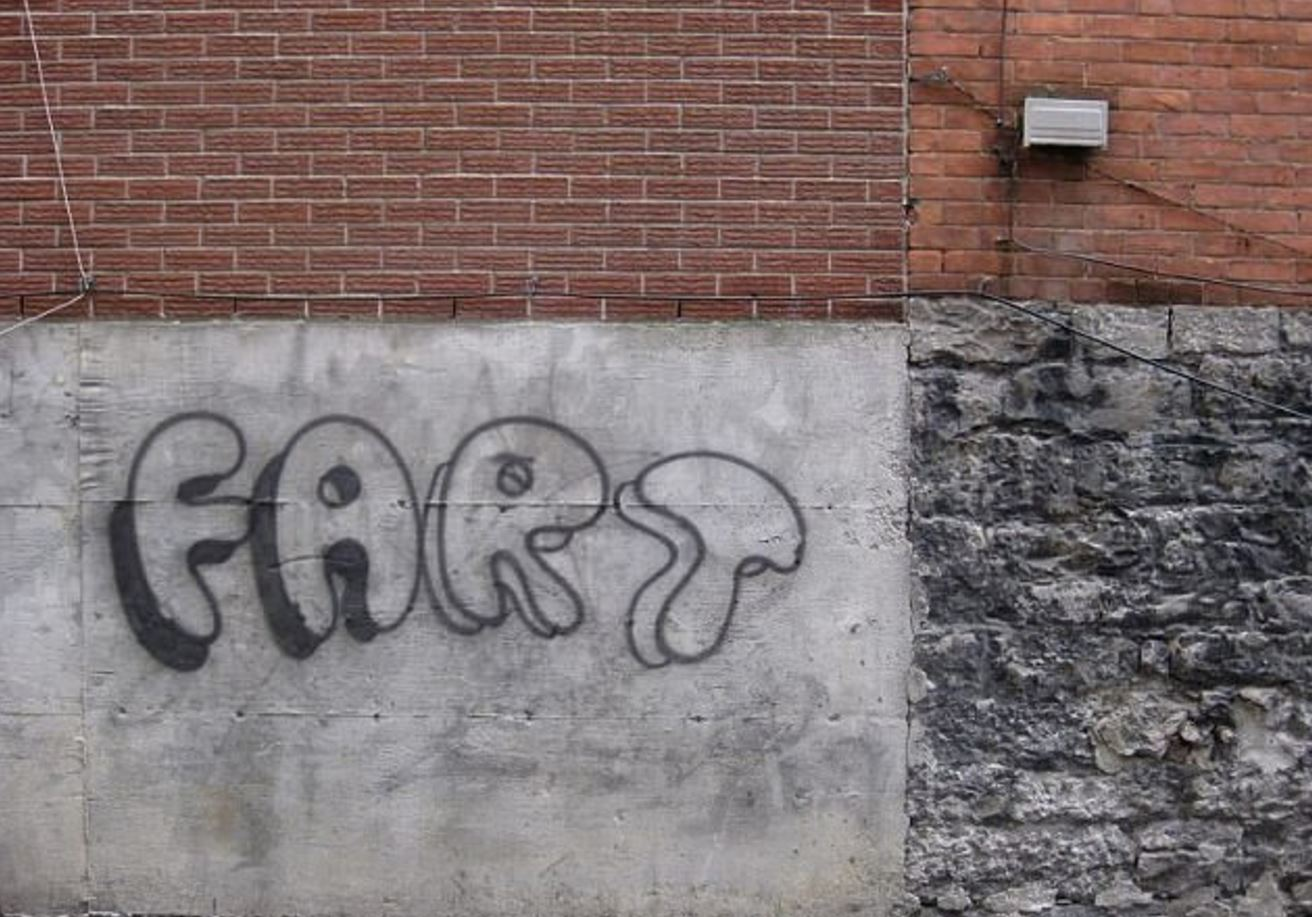graphite: (122, 400, 828, 674)
